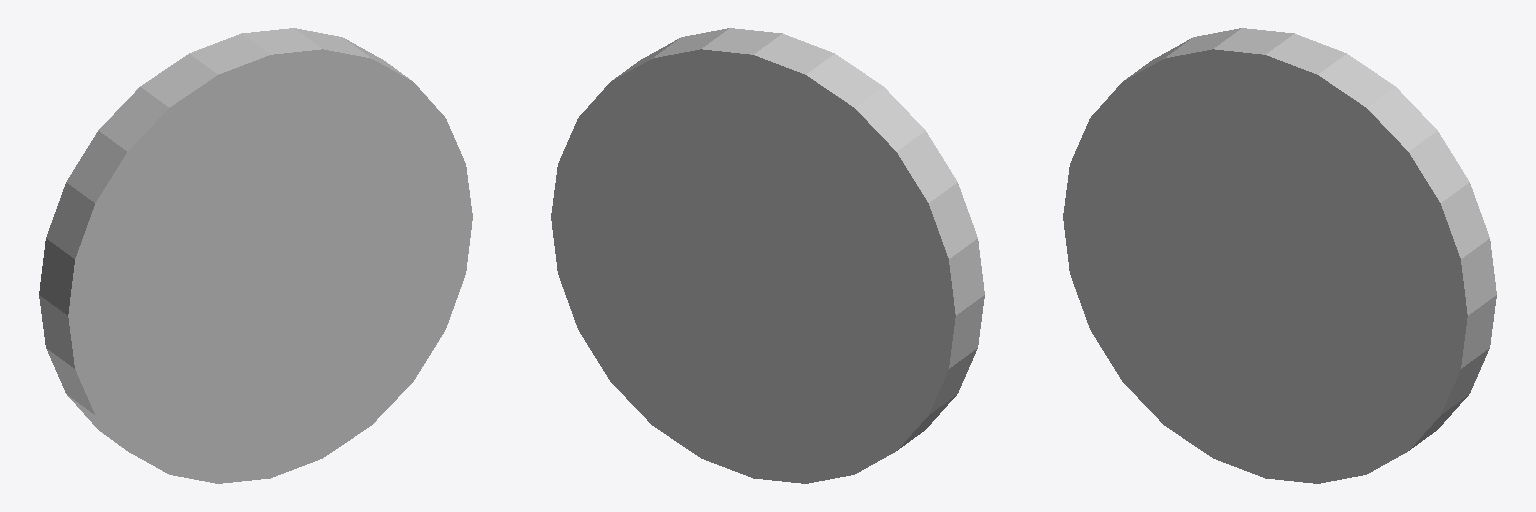
The model's file is WheelOfFortune.obj.
3 renders of one model, left to right at view 1: azimuth 30°, elevation 25°; view 2: azimuth 150°, elevation 25°; view 3: azimuth 330°, elevation 25°, orthographic.
Size of the model in its own units: 21.67 by 21.67 by 2.71.